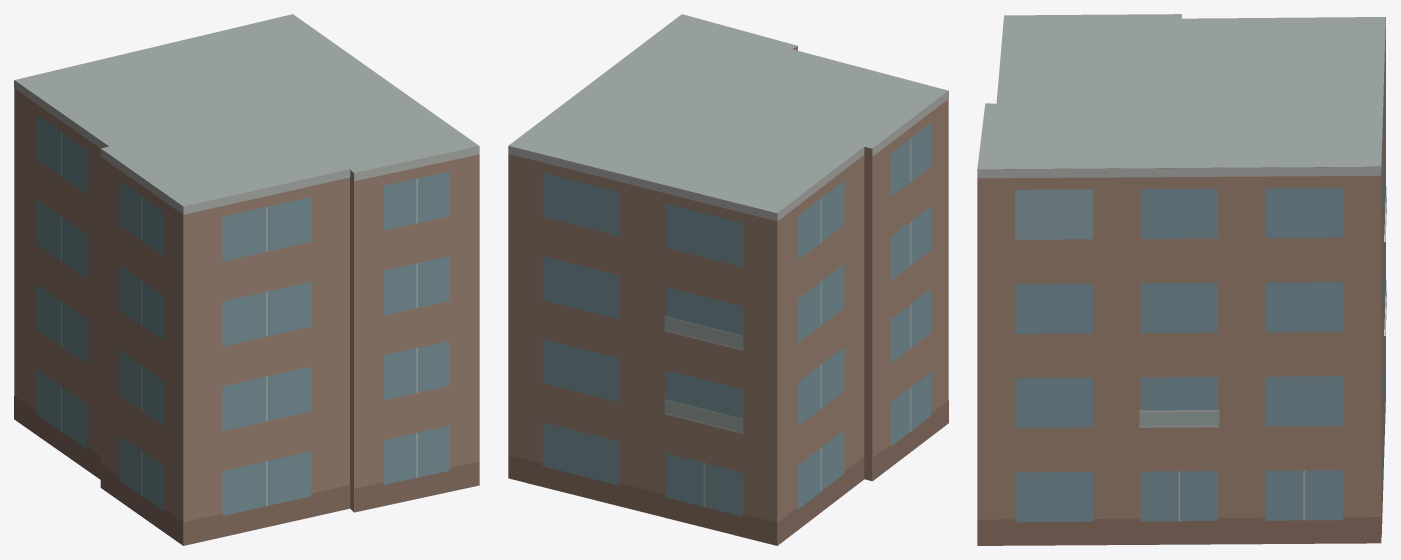
Rendered from survey-upis-33040295.glb.
The picture shows the model from 3 angles, left to right: view 1: azimuth 30°, elevation 25°; view 2: azimuth 150°, elevation 25°; view 3: azimuth 270°, elevation 25°; orthographic projection. The views are drawn at different scales.
Parts seen in each view (by area): view 1: survey-upis-33040295.tmp; view 2: survey-upis-33040295.tmp; view 3: survey-upis-33040295.tmp.
Part boxes in pixels (x1,y1,x2,y2): survey-upis-33040295.tmp: [14, 14, 479, 545]; survey-upis-33040295.tmp: [508, 14, 948, 545]; survey-upis-33040295.tmp: [977, 14, 1386, 545].
Bounding box in the file's own units: 8.94 × 10.1 × 9.96.
